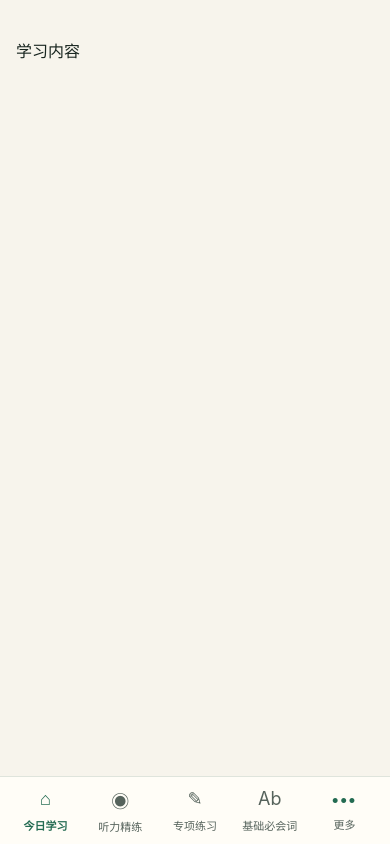
AppShell › groups desktop navigation and exposes four primary mobile destinations
Check: the number of links is 4, box [23,788,67,833]; [98,791,142,834]; [173,788,217,833]; [242,788,297,833]
Click the button "••• 更多": [345, 810] box [307,785,382,836]
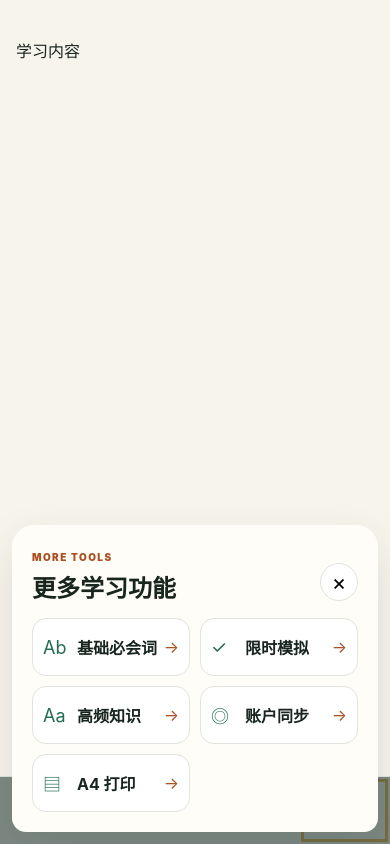
Check: the dialog "更多学习功能" is shown, box [12,525,378,832]
Check: the link "Ab 基础必会词 →" is shown, box [32,618,190,676]
Check: the link "✓ 限时模拟 →" is shown, box [200,618,358,676]
